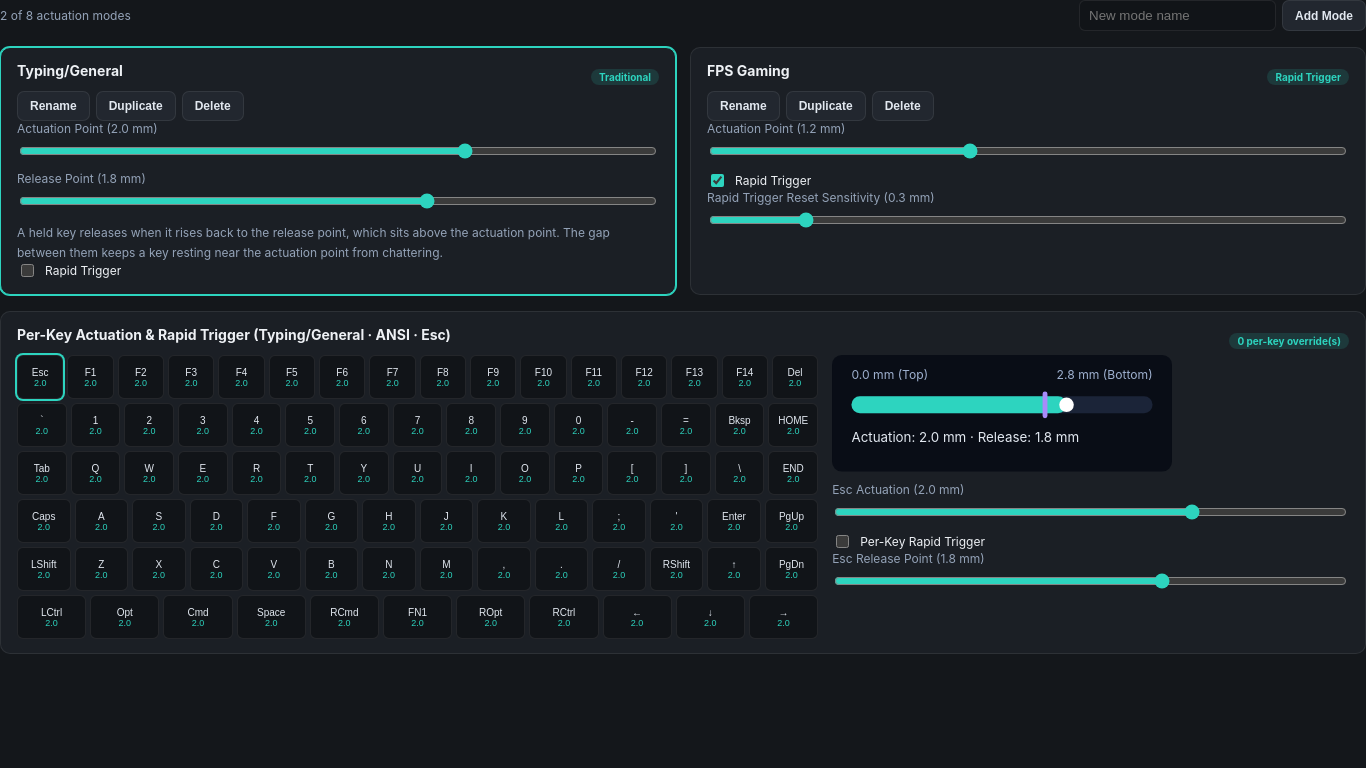
managing actuation modes in the panel › asks before deleting a mode a profile uses, and applies modes and profiles together
The image size is (1366, 768).
Click the button with aria-label "Delete Typing/General" at (213, 106), box [182, 91, 244, 121]
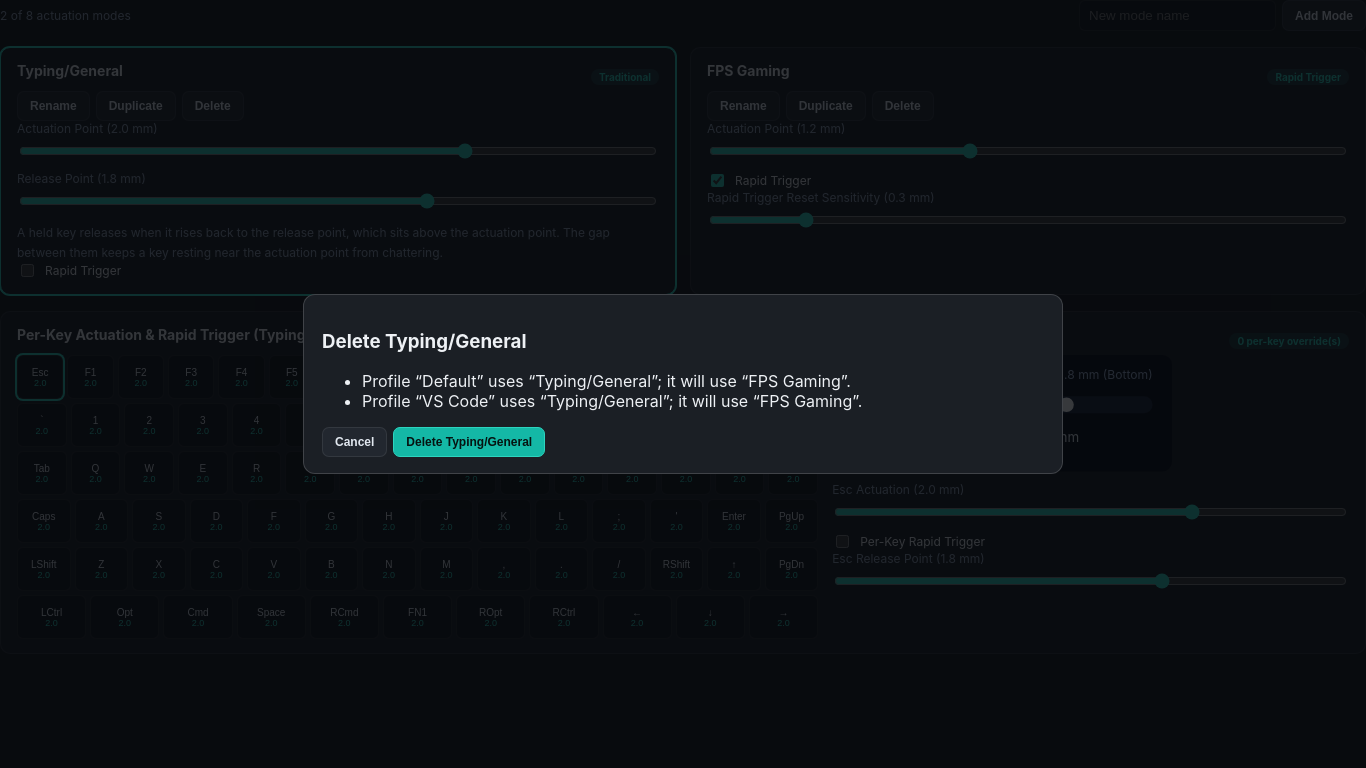
Result: the dialog "Delete Typing/General" shows "Profile “Default” uses “Typing/General”; it will use “FPS Gaming”" at [362, 371, 851, 391]
Click the button "Delete Typing/General" at (469, 442), box [393, 427, 545, 457]
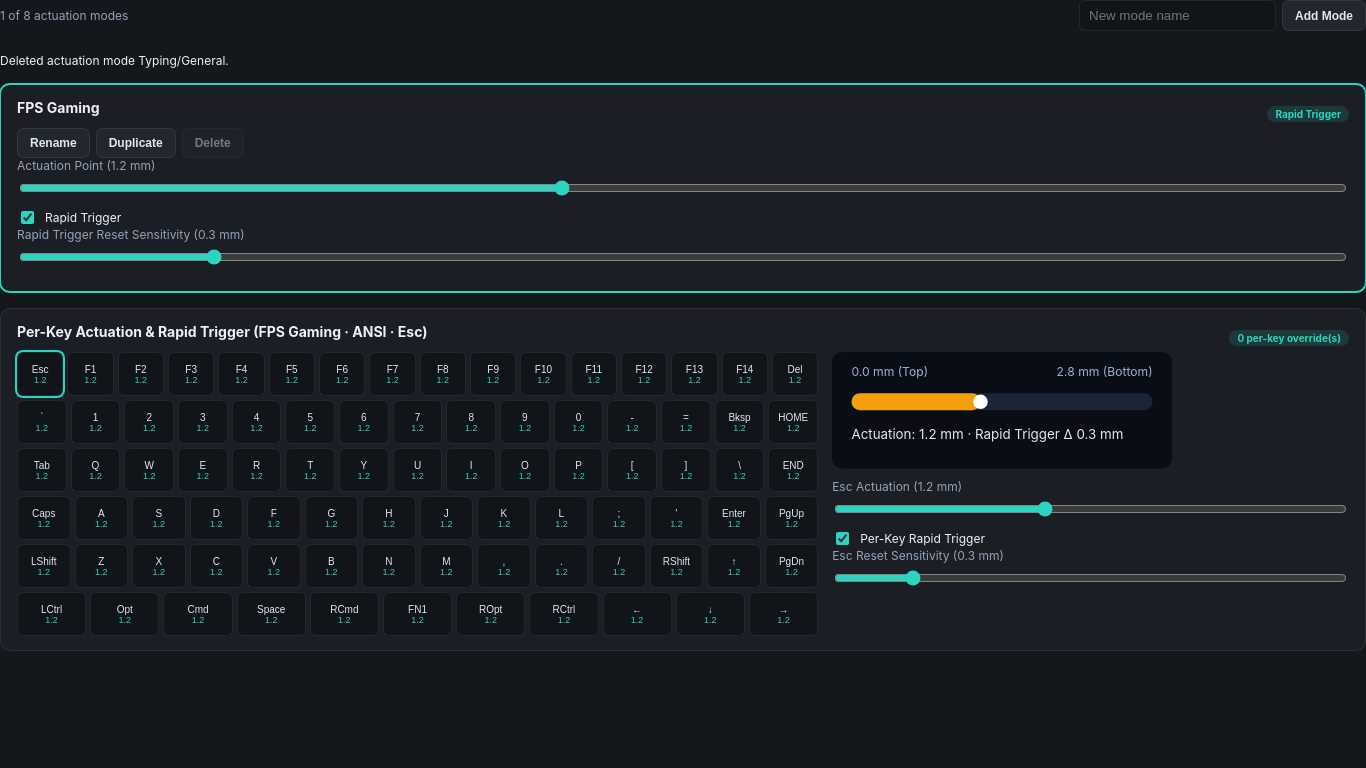
Result: the button with aria-label "Delete FPS Gaming" is disabled at [182, 128, 244, 158]
